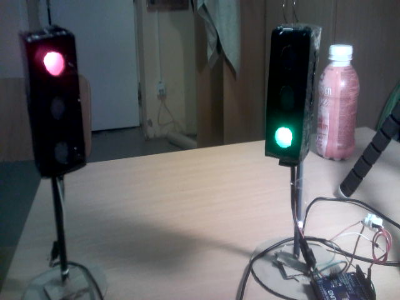trafficlight_green: (266, 28, 311, 159)
trafficlight_red: (29, 38, 76, 170)
